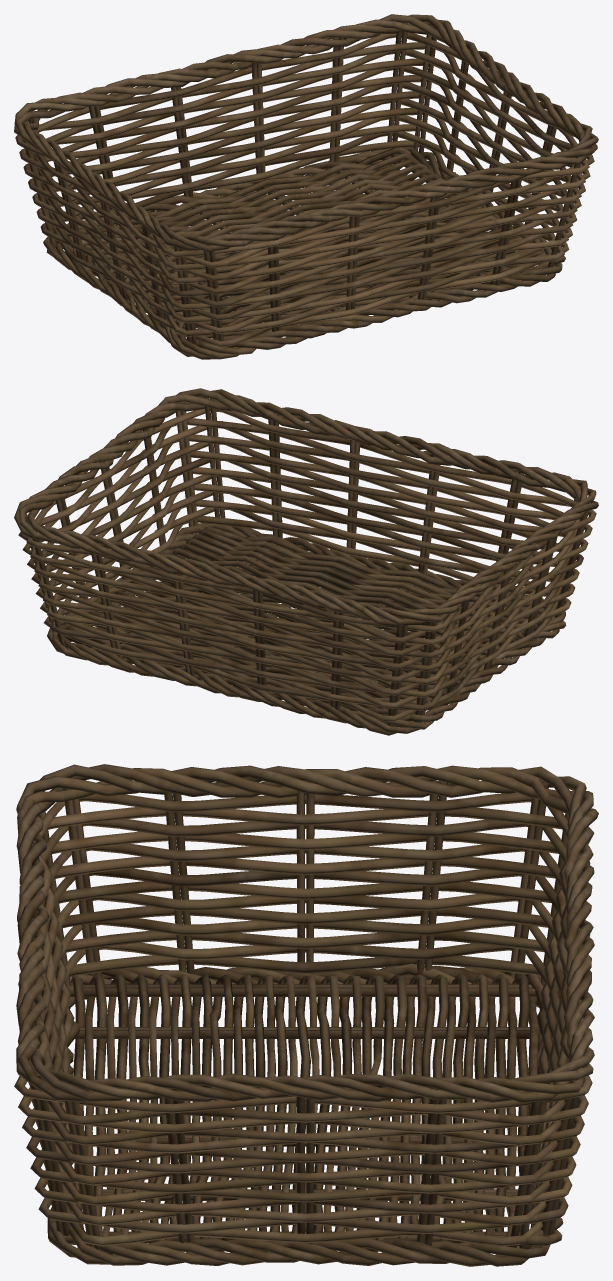
The model's file is wicker_basket_01.glb.
3 views of the same model, one above another, from view 1: azimuth 30°, elevation 25°; view 2: azimuth 150°, elevation 25°; view 3: azimuth 270°, elevation 25° (orthographic). The views are drawn at different scales.
Visible parts, largest first — view 1: wicker_basket_01; view 2: wicker_basket_01; view 3: wicker_basket_01.
Part boxes in pixels (x1,y1,x2,y2): wicker_basket_01: [14, 14, 598, 359]; wicker_basket_01: [14, 388, 598, 735]; wicker_basket_01: [14, 764, 598, 1266].
Size of the model in its own units: 0.3832 by 0.1174 by 0.295.
Materials: 1 (1 with a texture image).
